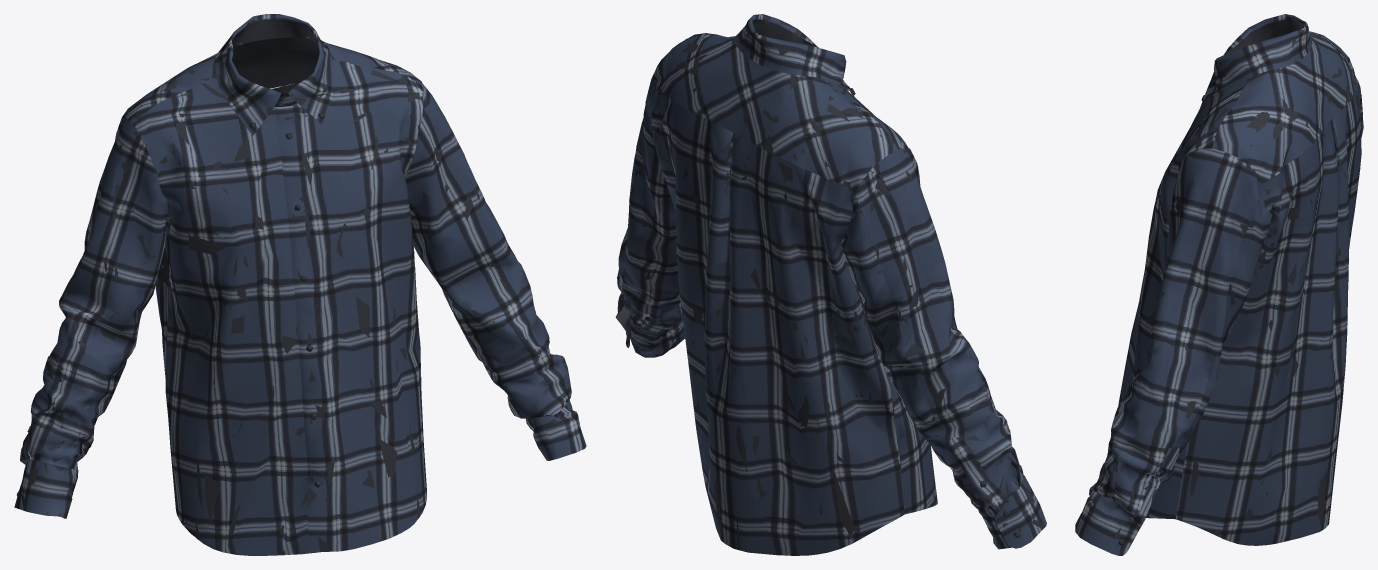
File: flannel.glb
3 renders of one model, left to right at view 1: azimuth 30°, elevation 25°; view 2: azimuth 150°, elevation 25°; view 3: azimuth 270°, elevation 25°, orthographic. The views are drawn at different scales.
Parts seen in each view (by area): view 1: flannel; view 2: flannel; view 3: flannel.
Boxes of the visible parts, x1,y1,x2,y2 form: flannel: (14,14,586,555); flannel: (615,14,1046,555); flannel: (1075,14,1363,555).
Bounding box in the file's own units: 0.8555 × 0.8327 × 0.4421.
20 materials, 14 textured.
